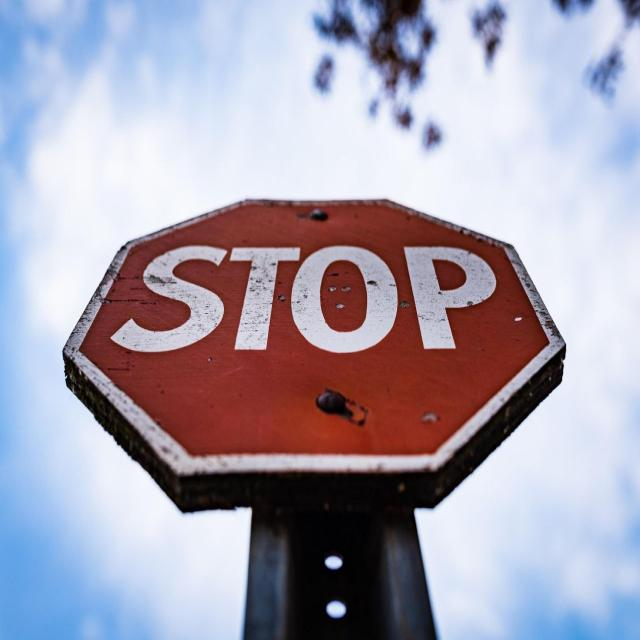stop: (67, 198, 565, 494)
